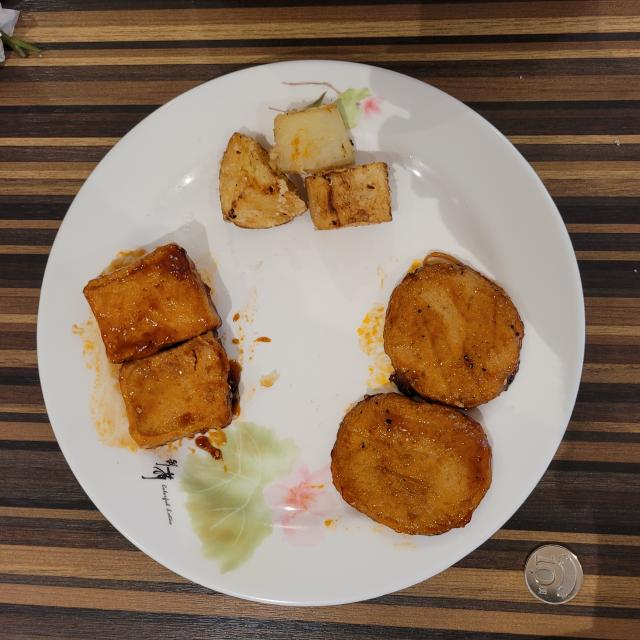coin: (525, 545, 584, 604)
creamy tofu: (84, 244, 241, 449)
fish cake: (331, 252, 524, 535)
fried potato: (220, 104, 391, 230)
